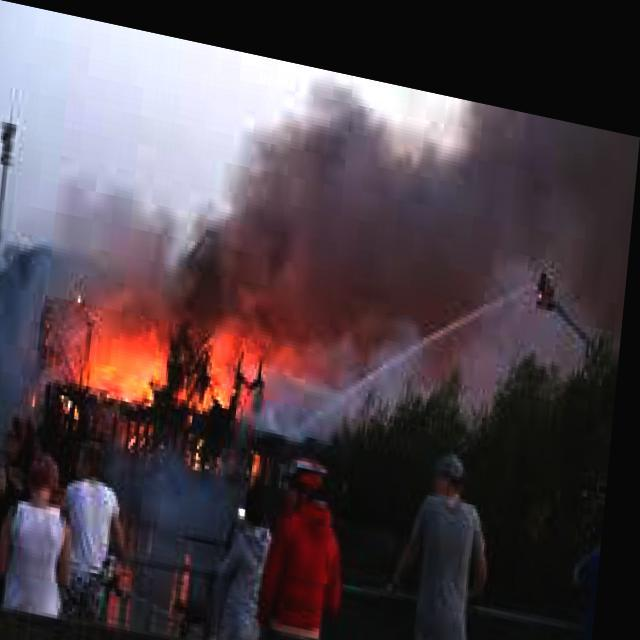Fire: (34, 263, 262, 426)
